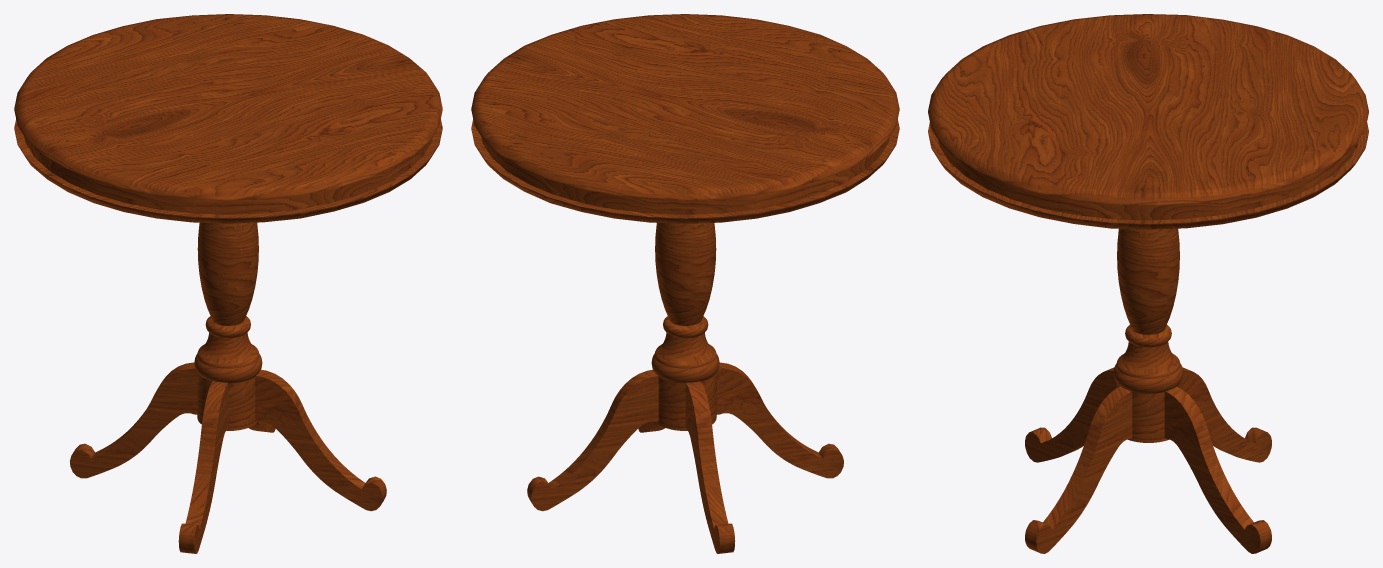
Rendered from classic_round_side_table.glb.
3 renders of one model, left to right at view 1: azimuth 30°, elevation 25°; view 2: azimuth 150°, elevation 25°; view 3: azimuth 270°, elevation 25°, orthographic. The views are drawn at different scales.
Visible parts, largest first — view 1: Object_2; view 2: Object_2; view 3: Object_2.
Part boxes in pixels (left/top/right/bottom): Object_2: left=14, top=14, right=442, bottom=553; Object_2: left=471, top=14, right=899, bottom=553; Object_2: left=928, top=14, right=1368, bottom=553.
Size of the model in its own units: 801 by 805 by 801.
1 material, 1 textured.
